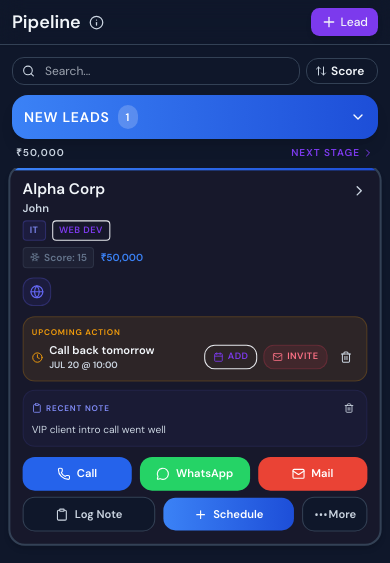
Test: CRMPipeline (optimized mobile layout) › opens the stage dropdown and switches stage on tap
The image size is (390, 563).
Click the text "New Leads" at (67, 117), box [24,107,110,127]
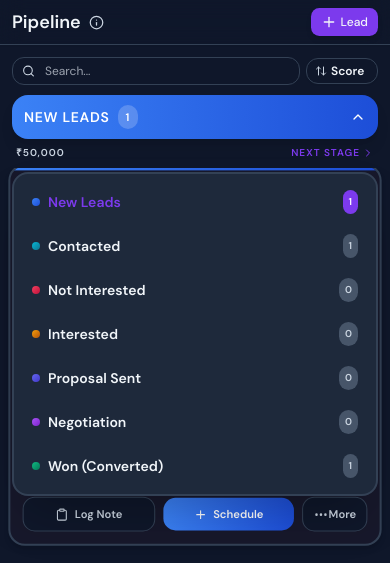
Click the text "Contacted" at (84, 246), box [48,236,120,256]
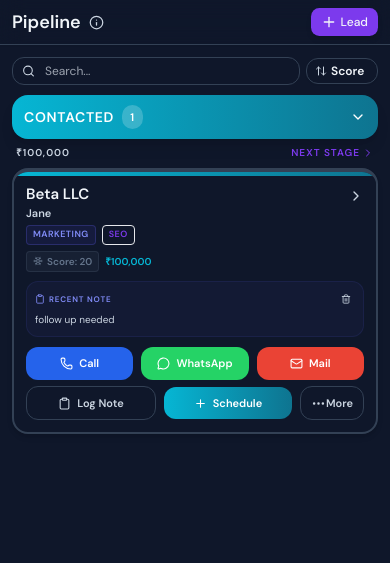
Check: the heading "Beta LLC" is shown, box [26,184,89,204]
Check: the button "Alpha Corp" is gone
